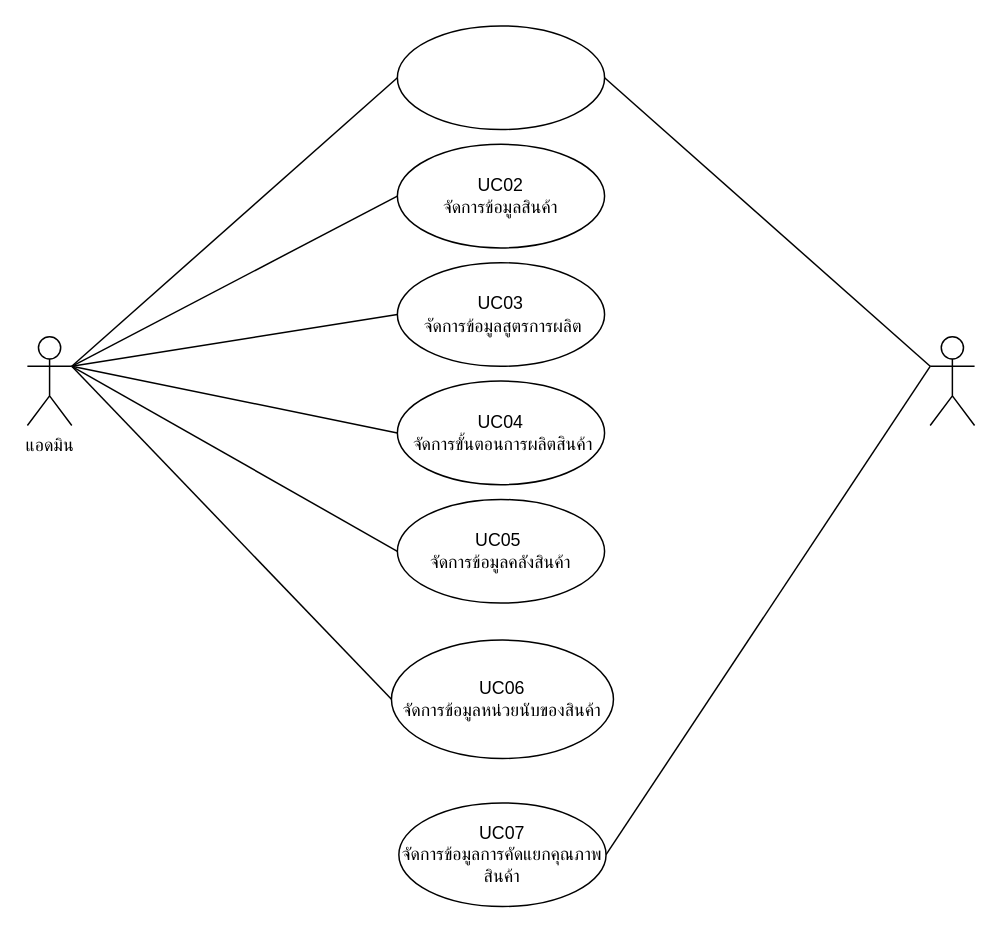
The diagram is 1006 pixels wide and 932 high, and some of its shapes have lost their labels. Here are the shapes that lost their labels. From the top down, the centre of each, then its label:
At (500,77): "UC01 เข้าสู่ระบบ".
At (952,380): "พนักงาน".
